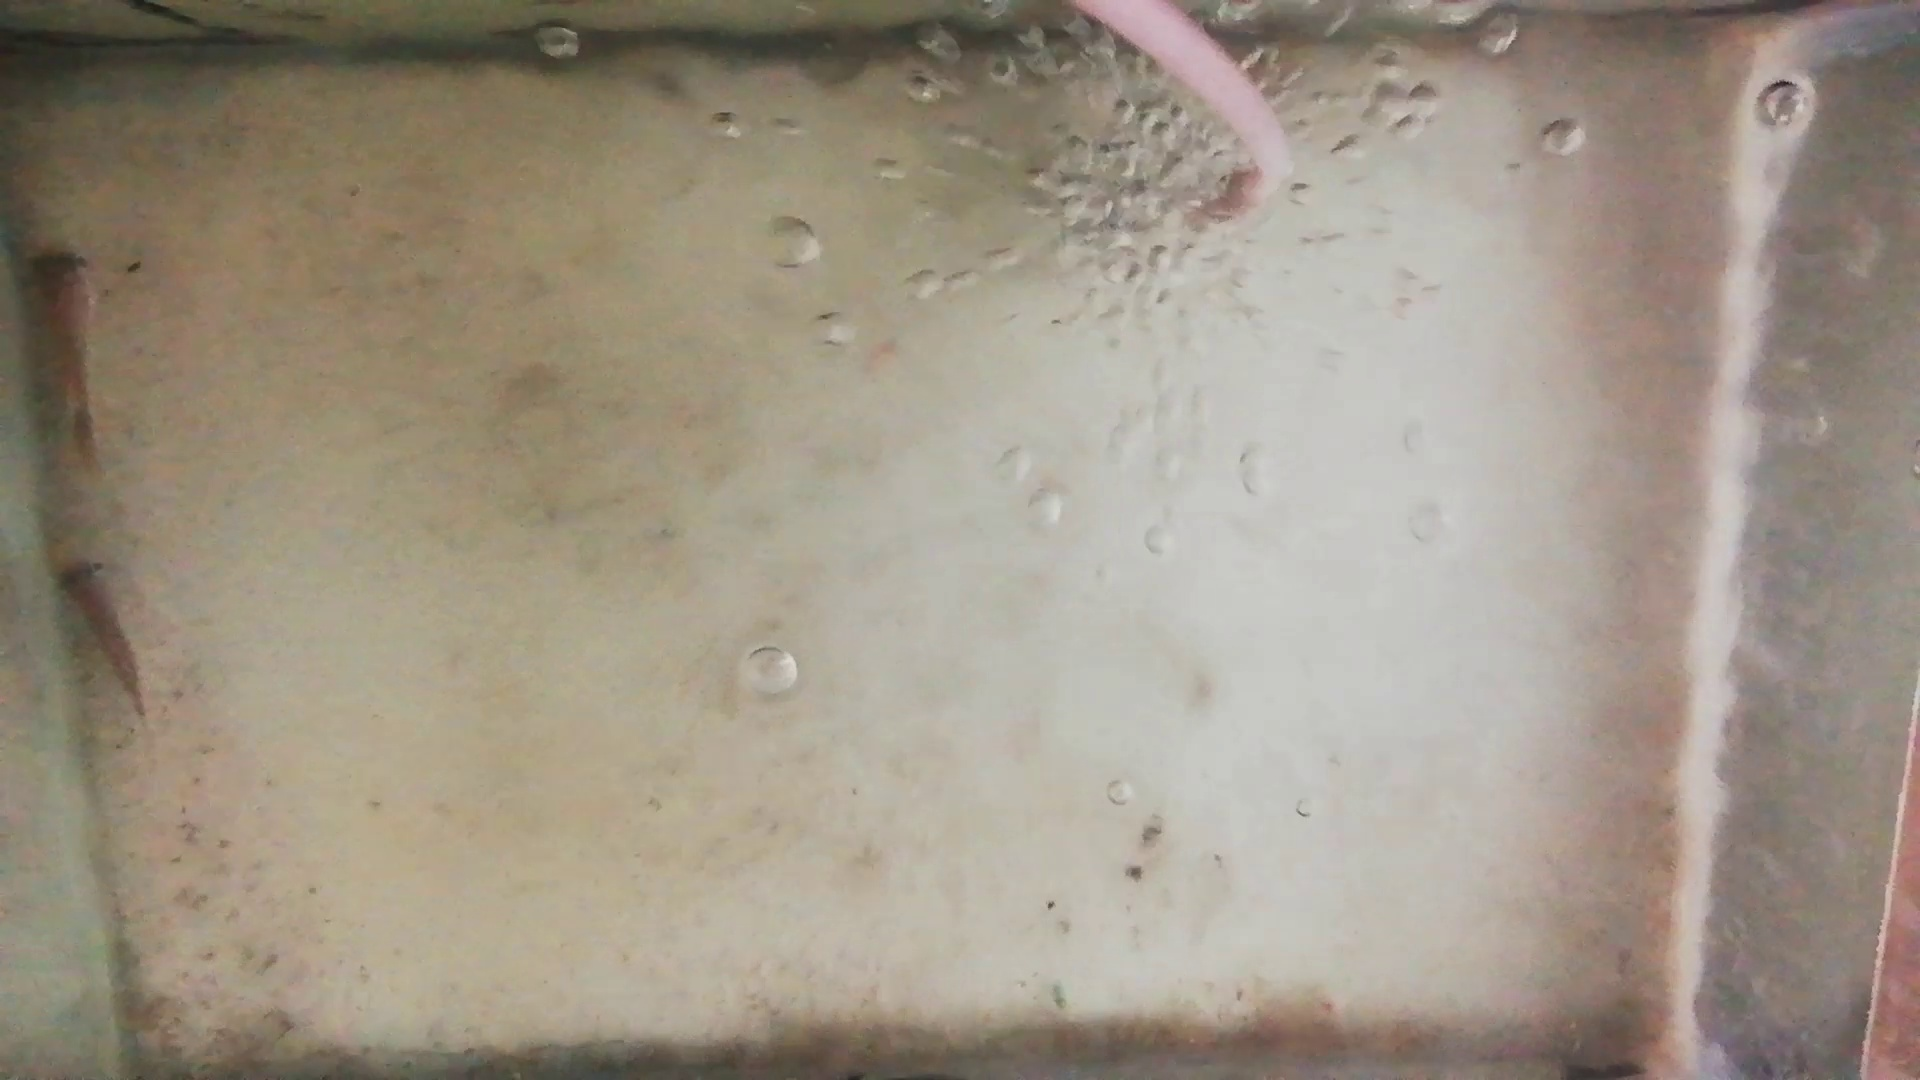fish: (33, 247, 103, 469), (55, 556, 148, 716)
